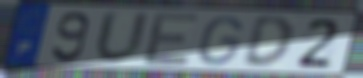2: (291, 18, 344, 70)
9: (51, 11, 92, 63)
D: (240, 15, 295, 70)
E: (141, 11, 202, 67)
G: (195, 15, 245, 67)
U: (92, 9, 153, 67)
